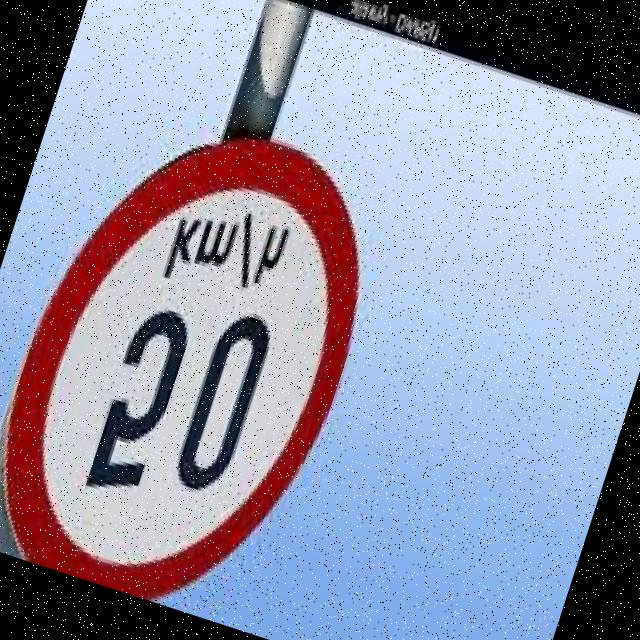speed_limit_50: (0, 90, 415, 640)
